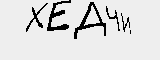Д: (73, 1, 107, 36)
Е: (47, 1, 71, 32)
И: (118, 12, 130, 35)
Х: (24, 1, 49, 30)
Ч: (103, 4, 121, 33)
